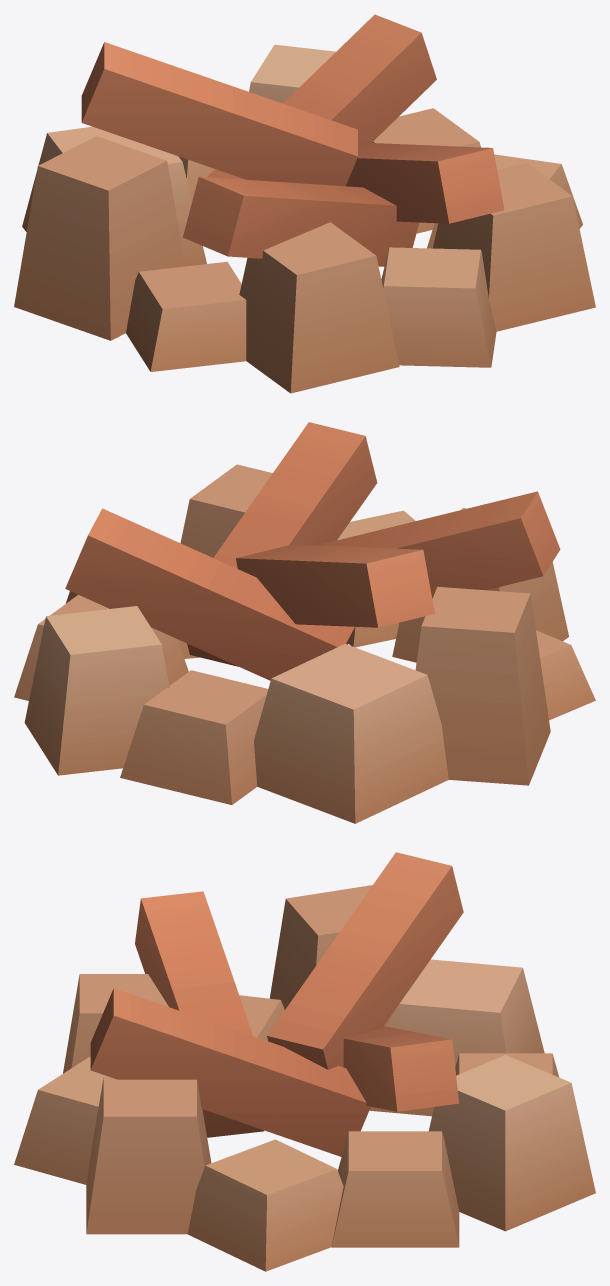
The model's file is surv.campfire_pit.glb.
3 renders of one model, top to bottom at view 1: azimuth 30°, elevation 25°; view 2: azimuth 150°, elevation 25°; view 3: azimuth 270°, elevation 25°, orthographic. The views are drawn at different scales.
Parts seen in each view (by area): view 1: campfire-pit, wood; view 2: campfire-pit, wood; view 3: campfire-pit, wood.
Boxes of the visible parts, x1,y1,x2,y2 form: campfire-pit: (14, 44, 595, 393); wood: (81, 14, 504, 266); campfire-pit: (14, 464, 595, 823); wood: (65, 422, 560, 680); campfire-pit: (14, 885, 595, 1271); wood: (90, 852, 463, 1156).
Bounding box in the file's own units: 0.7267 × 0.2854 × 0.7044.
Materials: 1 (1 with a texture image).
